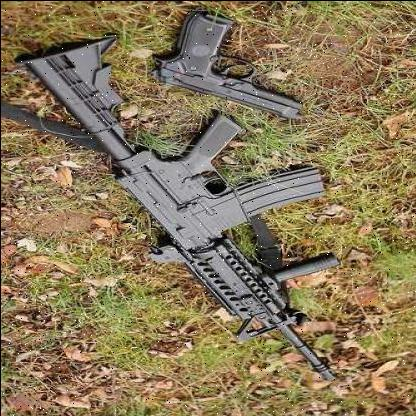rifle: (7, 36, 345, 398)
